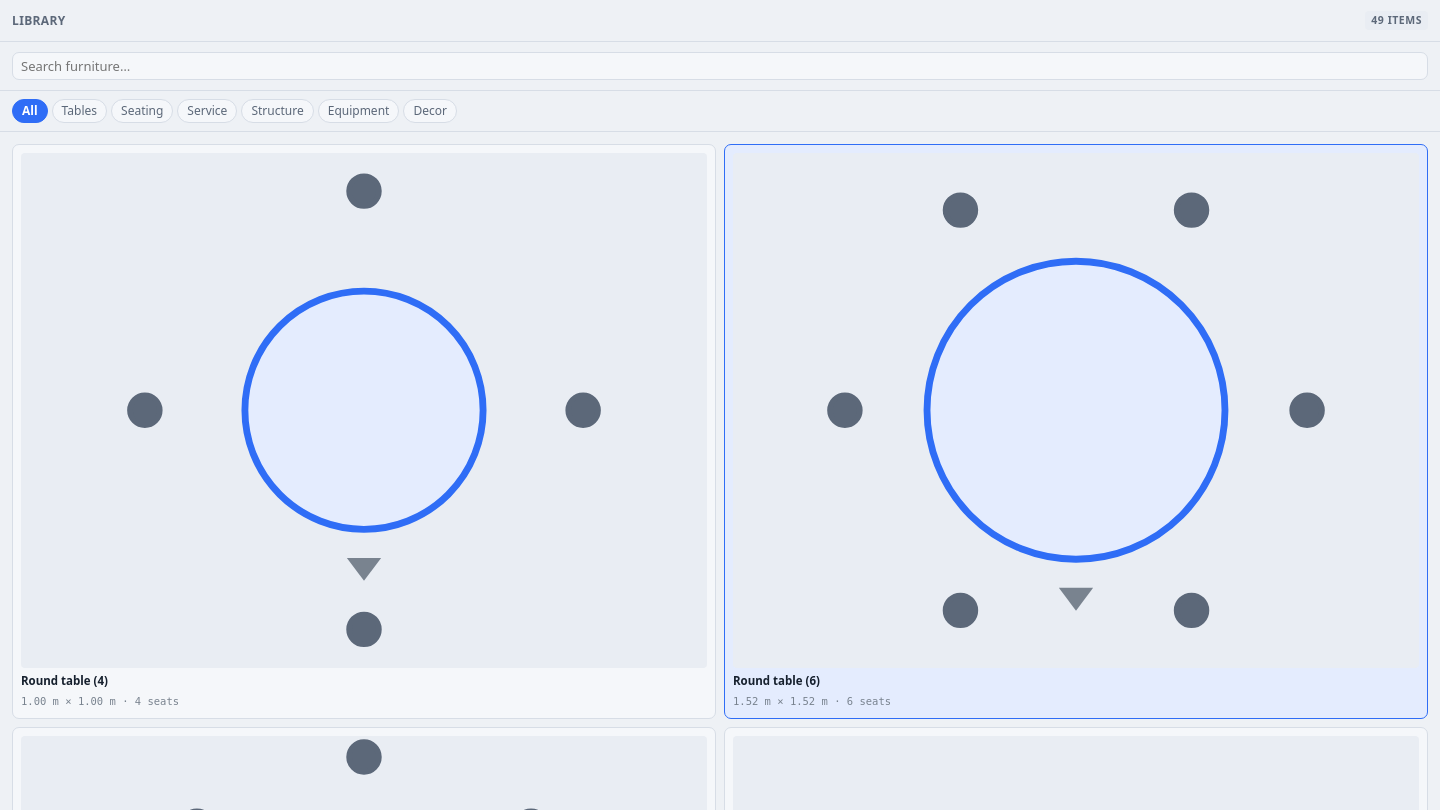
the furniture catalog › narrows to one category and back again
Click the button "Seating".
click(142, 111)  # box [111,99,173,123]
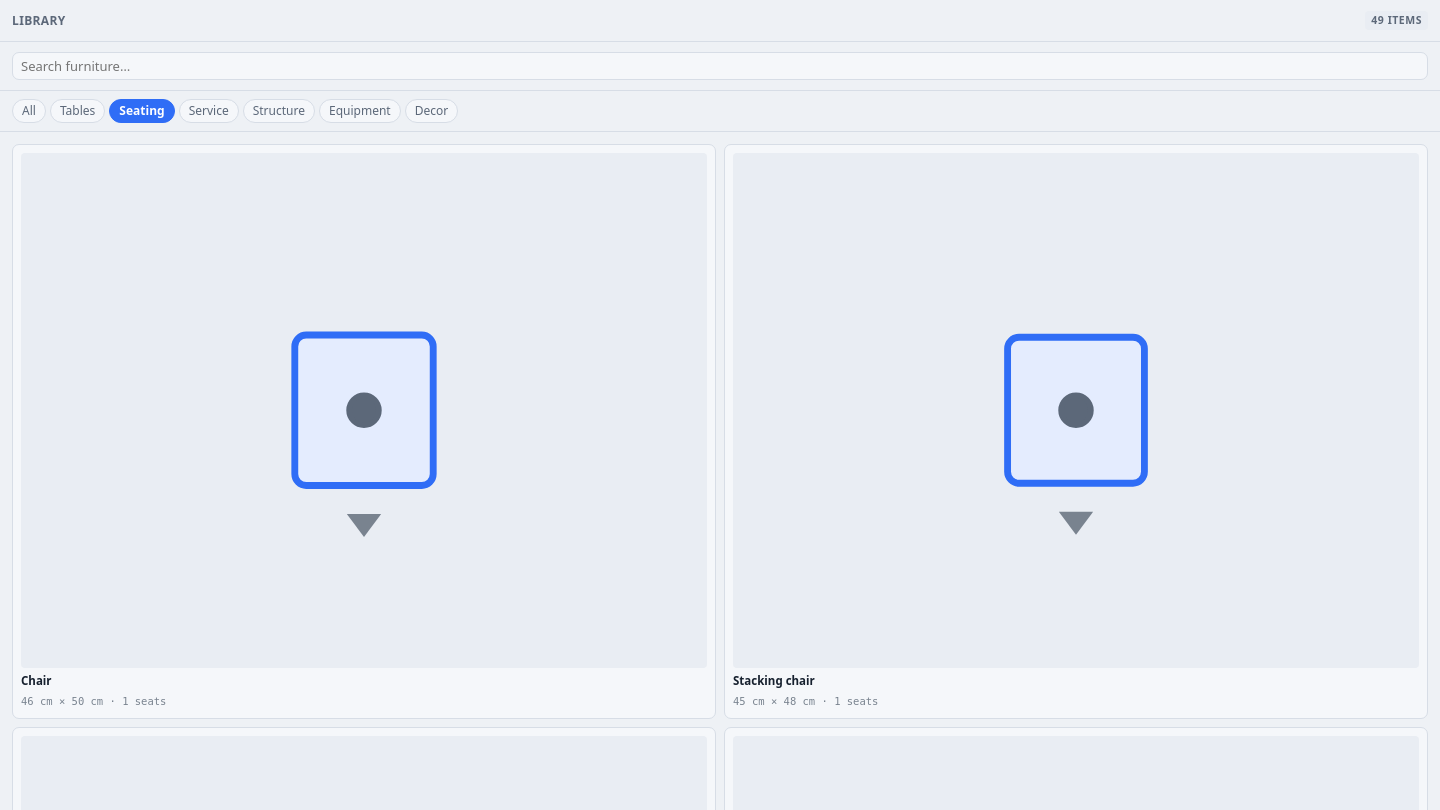
Expected: the text "Stacking chair" is shown, [733,674,815,688]
Expected: the button "Round table (6)" is gone
Click the button "All".
click(29, 111)  # box [12,99,46,123]
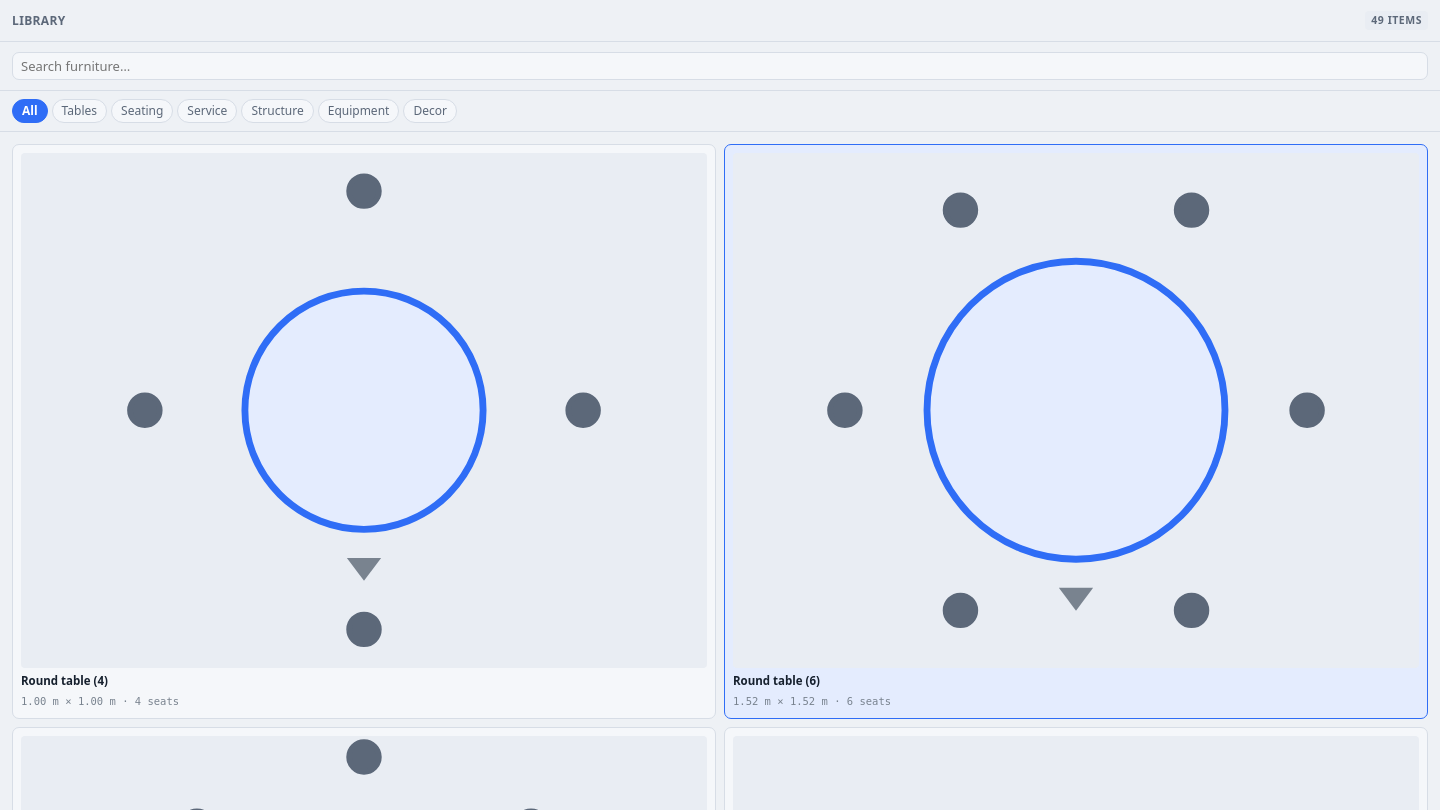
Expected: the text "Round table (6)" is shown, [733,674,820,688]
